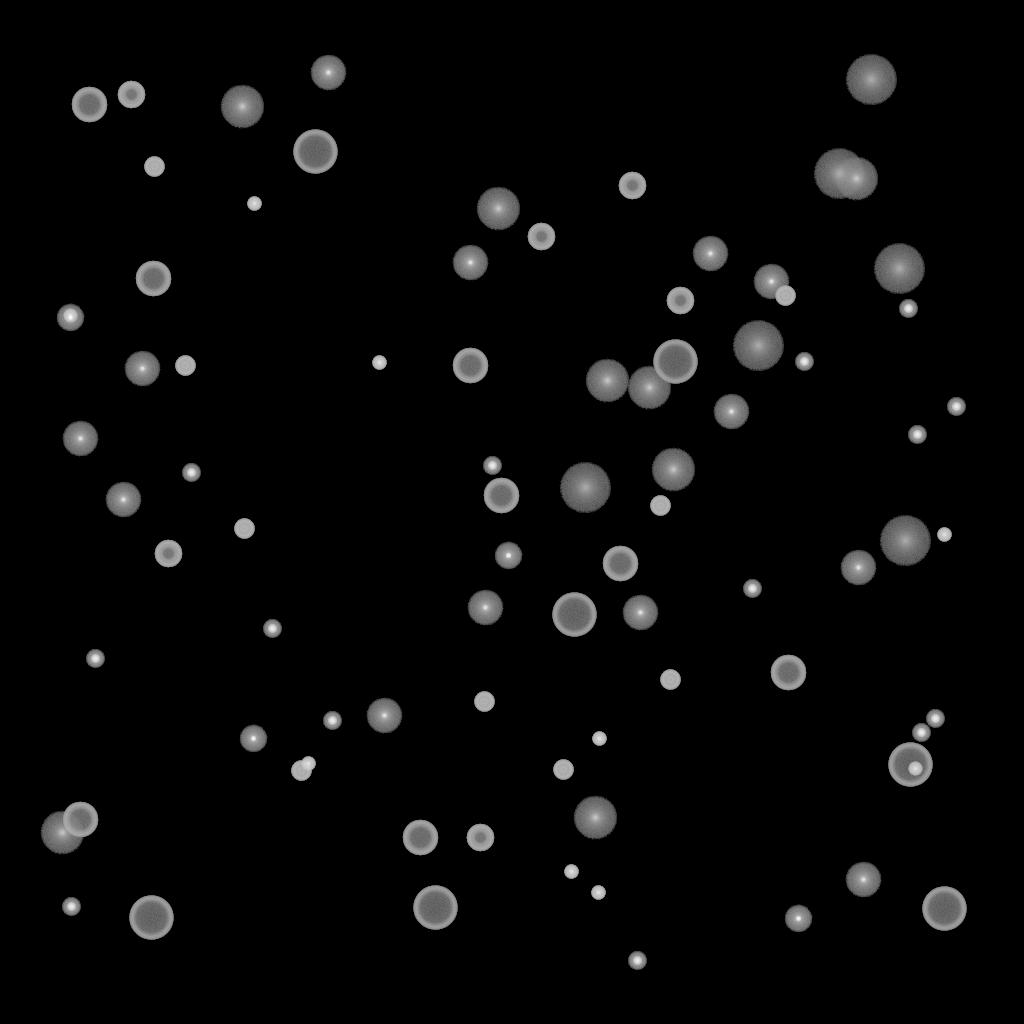depth:-10: (784, 905, 812, 933), (239, 725, 267, 753), (494, 542, 522, 570), (56, 304, 84, 332)
depth:-20: (947, 398, 965, 416), (182, 464, 200, 482), (743, 580, 761, 598), (912, 724, 930, 742), (926, 710, 944, 728), (899, 300, 917, 318), (323, 712, 341, 730), (795, 353, 813, 371), (628, 952, 646, 970), (62, 898, 80, 916), (483, 457, 501, 475), (86, 650, 104, 668), (908, 426, 926, 444), (263, 620, 281, 638)
depth:-30: (564, 865, 578, 879), (247, 197, 261, 211), (301, 757, 315, 771), (908, 762, 922, 776), (63, 309, 77, 323), (372, 356, 386, 370), (591, 886, 605, 900), (592, 732, 606, 746), (937, 528, 951, 542)
depth:-40: (553, 760, 573, 780), (144, 157, 164, 177), (234, 519, 254, 539), (175, 356, 195, 376), (660, 670, 680, 690), (474, 692, 494, 712), (775, 286, 795, 306), (291, 761, 311, 781), (650, 496, 670, 516)
depth:-50: (117, 81, 145, 109), (666, 287, 694, 315), (466, 824, 494, 852), (618, 172, 646, 200), (527, 223, 555, 251), (154, 540, 182, 568)
depth:-60: (602, 546, 638, 582), (62, 802, 98, 838), (71, 87, 107, 123), (135, 261, 171, 297), (483, 478, 519, 514), (402, 820, 438, 856), (452, 348, 488, 384), (770, 655, 806, 691)
depth:-70: (413, 886, 457, 930), (293, 130, 337, 174), (552, 593, 596, 637), (129, 896, 173, 940), (888, 743, 932, 787), (653, 340, 697, 384), (922, 887, 966, 931)
depth:0: (105, 482, 141, 518), (713, 394, 749, 430), (310, 55, 346, 91), (467, 590, 503, 626), (692, 236, 728, 272), (622, 595, 658, 631), (62, 421, 98, 457), (366, 698, 402, 734), (845, 862, 881, 898), (840, 550, 876, 586), (124, 351, 160, 387), (753, 264, 789, 300), (452, 245, 488, 281)
depth:10: (651, 448, 695, 492), (573, 796, 617, 840), (834, 157, 878, 201), (627, 366, 671, 410), (220, 85, 264, 129), (476, 187, 520, 231), (40, 811, 84, 855), (585, 359, 629, 403)
depth:20: (732, 321, 784, 371), (813, 149, 865, 199), (845, 55, 897, 105), (879, 516, 931, 566), (559, 463, 611, 513), (873, 244, 925, 294)
